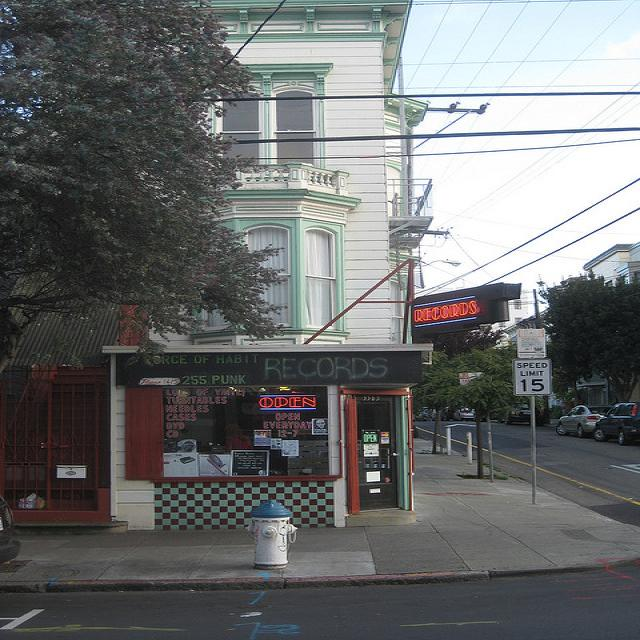Vehicle: (592, 402, 640, 445), (556, 404, 611, 438), (0, 496, 22, 564), (505, 402, 544, 426), (414, 407, 437, 423), (454, 408, 476, 421), (439, 406, 454, 421)
